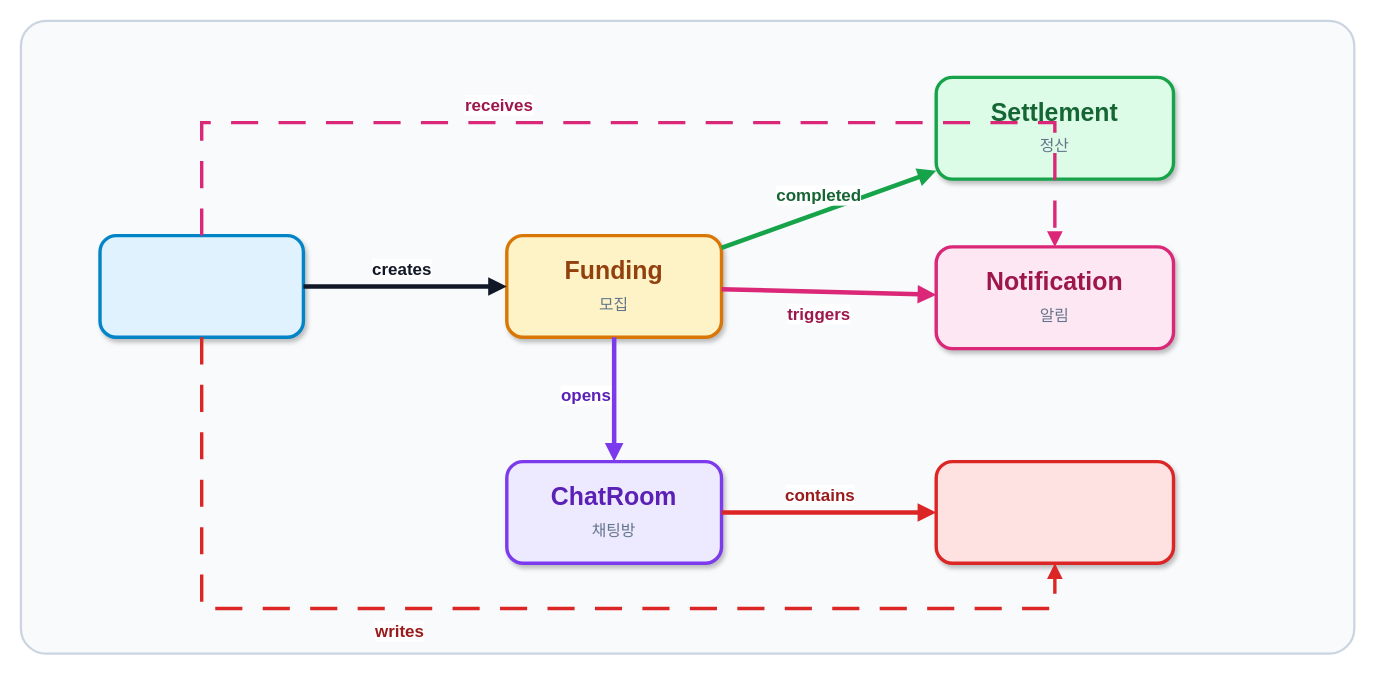
Some shapes in this 1374 by 673 pixel diagram are drawn without their labels. The shapes that lost their labels are listed below. From the top down, each one's centre as x and y in pixels, then its label:
At (x=202, y=287): "Member 사용자".
At (x=1055, y=513): "Message 메시지".
